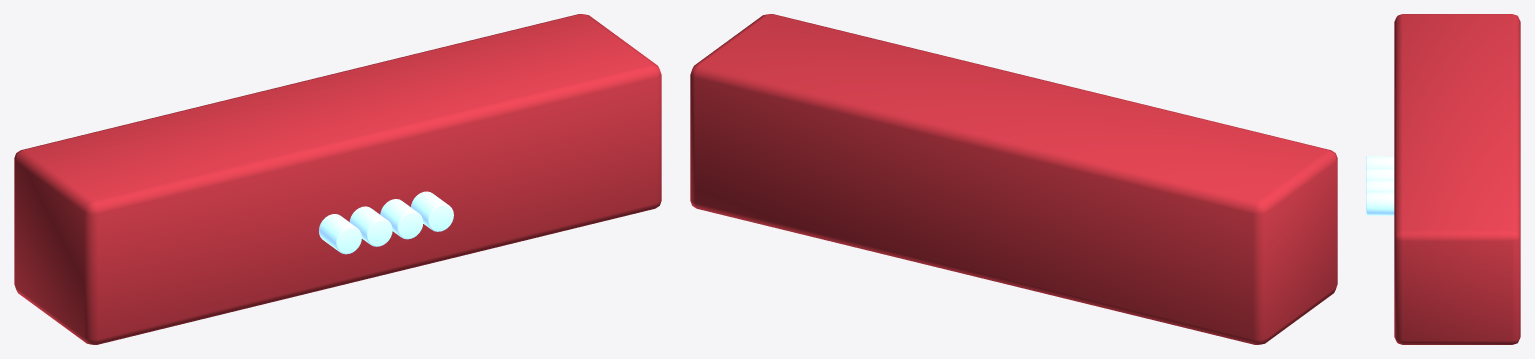
The model's file is hypercar_rear_bumper.glb.
The picture shows the model from 3 angles, left to right: view 1: azimuth 30°, elevation 25°; view 2: azimuth 150°, elevation 25°; view 3: azimuth 270°, elevation 25°; orthographic projection. The views are drawn at different scales.
Visible parts, largest first — view 1: Hypercar_Rear_Bumper; view 2: Hypercar_Rear_Bumper; view 3: Hypercar_Rear_Bumper.
Part boxes in pixels (bbox=[...]): Hypercar_Rear_Bumper: bbox=[14, 14, 661, 344]; Hypercar_Rear_Bumper: bbox=[690, 14, 1337, 344]; Hypercar_Rear_Bumper: bbox=[1366, 14, 1520, 344].
Size of the model in its own units: 1.5 by 0.36 by 0.44.
